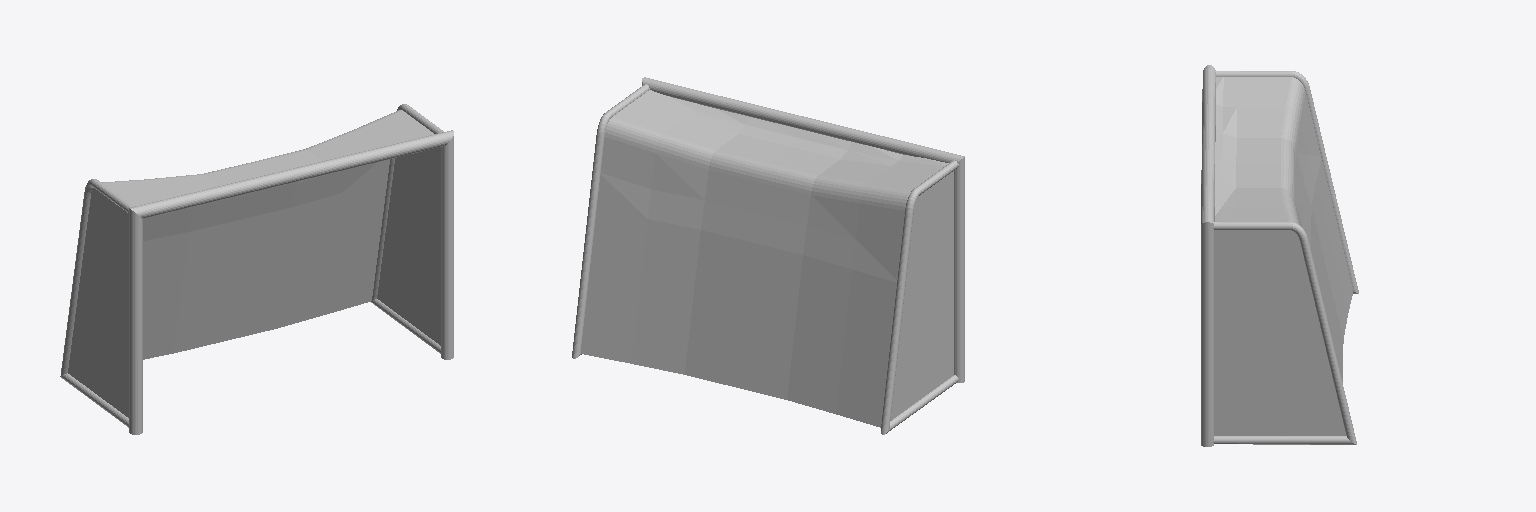
The model's file is gawangbaru.obj.
The picture shows the model from 3 angles: view 1: azimuth 30°, elevation 25°; view 2: azimuth 150°, elevation 25°; view 3: azimuth 270°, elevation 25°; orthographic projection.
Visible parts, largest first — view 1: Shape01; view 2: Shape01; view 3: Shape01.
Part boxes in pixels (x1,y1,x2,y2): Shape01: (60,104,453,434); Shape01: (572,77,964,434); Shape01: (1201,65,1358,446).
Bounding box in the file's own units: 0.9398 × 0.6266 × 0.3998.